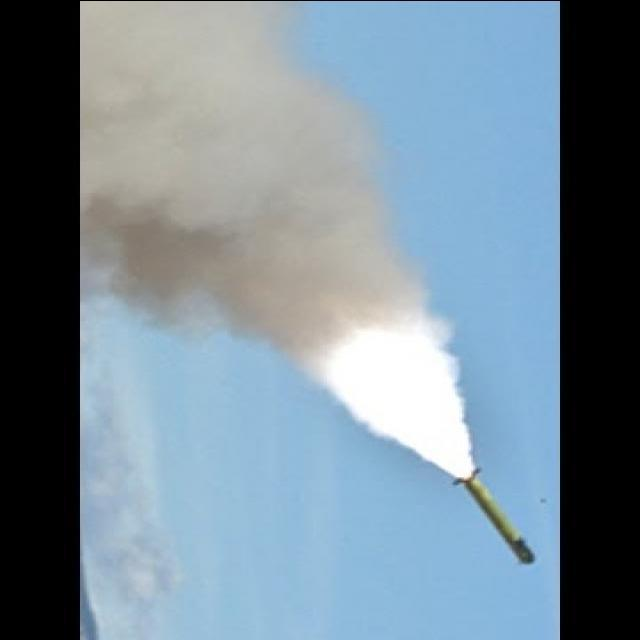missile: (453, 454, 546, 572)
